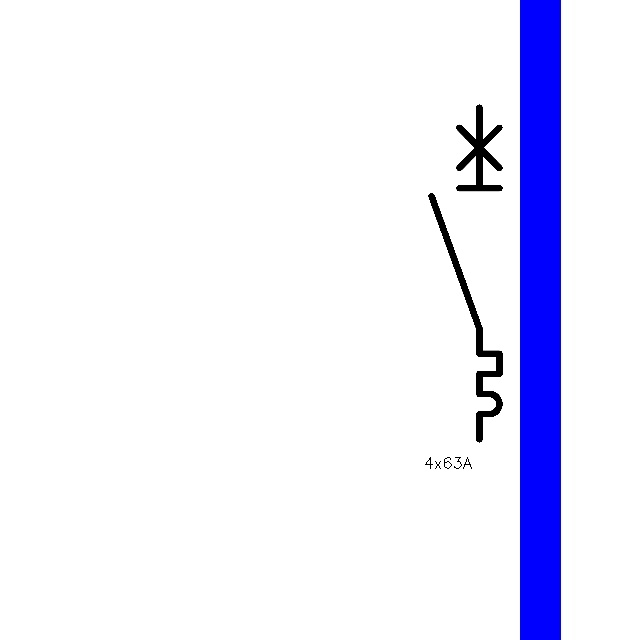interruptor_termomagnetico: (423, 99, 508, 448)
